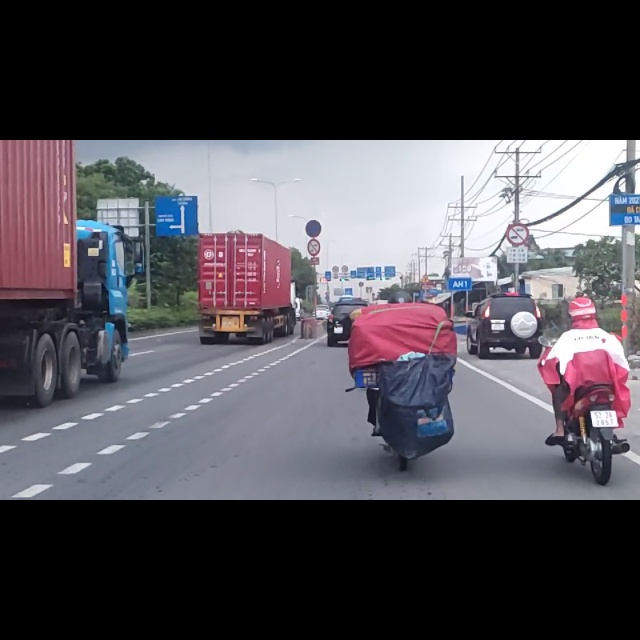bien_hieu_lenh: (506, 146, 530, 188), (305, 141, 323, 172), (307, 175, 320, 206)
